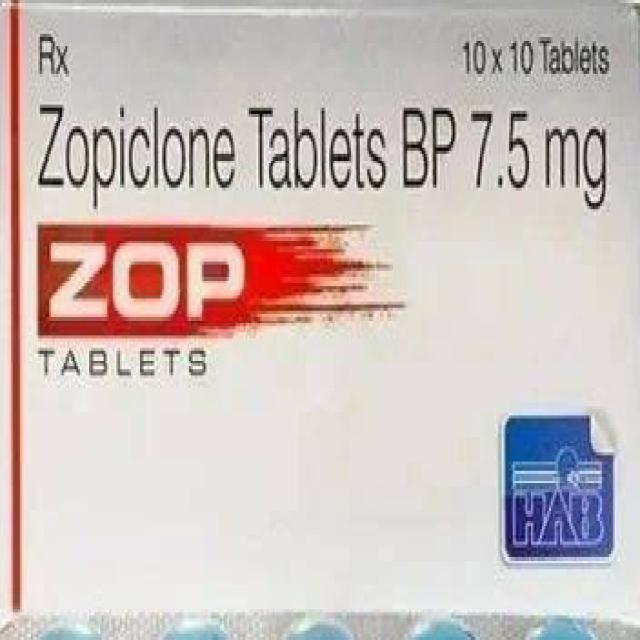drug-name: (45, 235, 248, 321)
